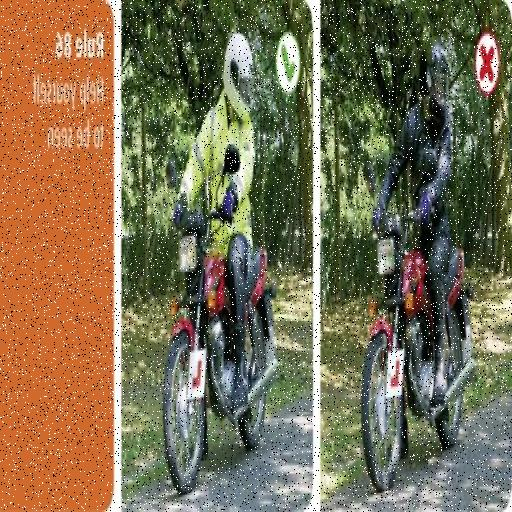Helmet: (223, 33, 254, 120), (420, 43, 448, 126)
Motor: (148, 179, 286, 493), (352, 189, 475, 499)
